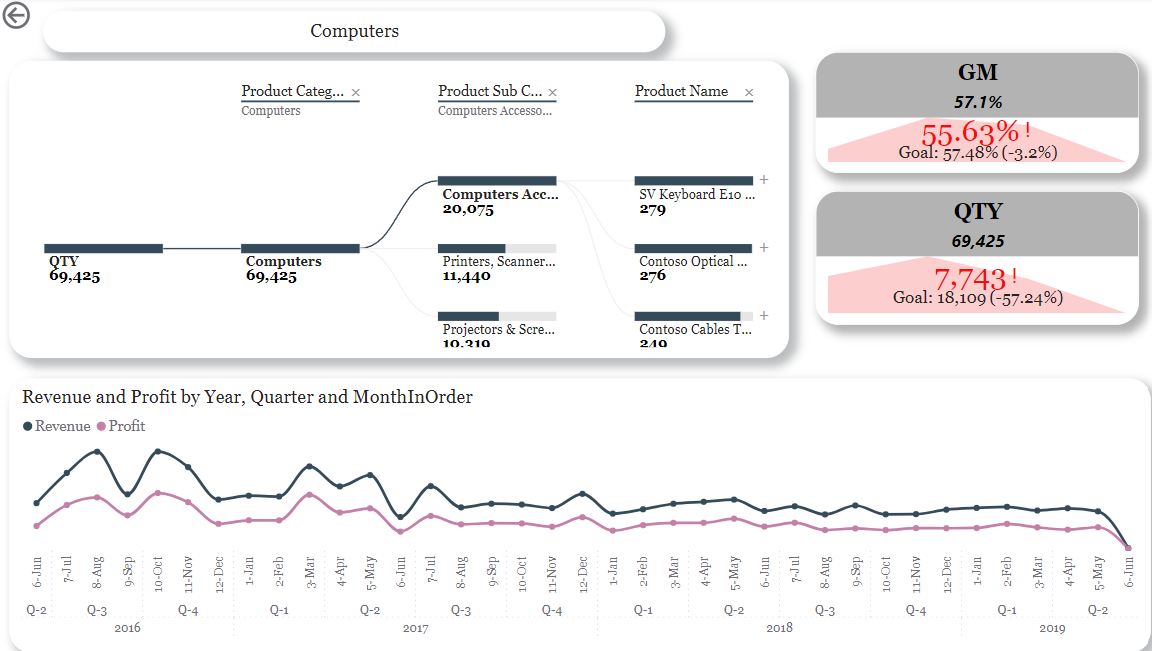

The page's visual inventory and layout, read from the dashboard file:
{"tool":"powerbi","page":{"name":"Product Category Detail","canvas":[1280,720],"ordinal":1},"visuals":[{"type":"lineChart","fields":{"Y":["Calculations.Revenue","Calculations.Profit"],"Category":["Calendar.Year","Calendar.Quarter","Calendar.MonthInOrder"]},"box":[12.3,418.5,1254.2,301.9],"z":0},{"type":"actionButton","box":[0,0,100,40],"z":1000},{"type":"card","fields":{"Values":["Min(Dim_Product.Product Category Name)"]},"box":[49.4,15.1,683.4,45.3],"z":2000},{"type":"decompositionTreeVisual","fields":{"ExplainBy":["Dim_Product.Product Category Name","Dim_Product.Product Sub Category Name","Dim_Product.Product Name","Dim_Location.Country","Dim_Manufacturer.Manufacturer"],"Analyze":["Calculations.QTY"]},"box":[12.3,70,856.3,326.6],"z":3000},{"type":"kpi","title":"QTY","fields":{"Indicator":["Calculations.QTY"],"Goal":["Calculations.QTYLY"],"TrendLine":["Calendar.Year"]},"box":[897.4,212.7,355.4,146.8],"z":4000},{"type":"kpi","title":"GM","fields":{"Indicator":["Calculations.GM%"],"TrendLine":["Calendar.Year"],"Goal":["Calculations.GMLY"]},"box":[897.4,60.4,355.4,133.1],"z":5000}]}

Visuals, with their boxes in screenshot pixels (x1, y1, x2, y2), scaled from the page's 1280x720 canvas onto the 1152x651 screenshot:
lineChart - Calculations.Revenue x Calculations.Profit: l=11, t=378, r=1140, b=650
actionButton: l=0, t=0, r=90, b=36
card - Min(Dim_Product.Product Category Name): l=44, t=14, r=660, b=55
decompositionTreeVisual - Dim_Product.Product Category Name x Dim_Product.Product Sub Category Name: l=11, t=63, r=782, b=359
"QTY" kpi: l=808, t=192, r=1128, b=325
"GM" kpi: l=808, t=55, r=1128, b=175
